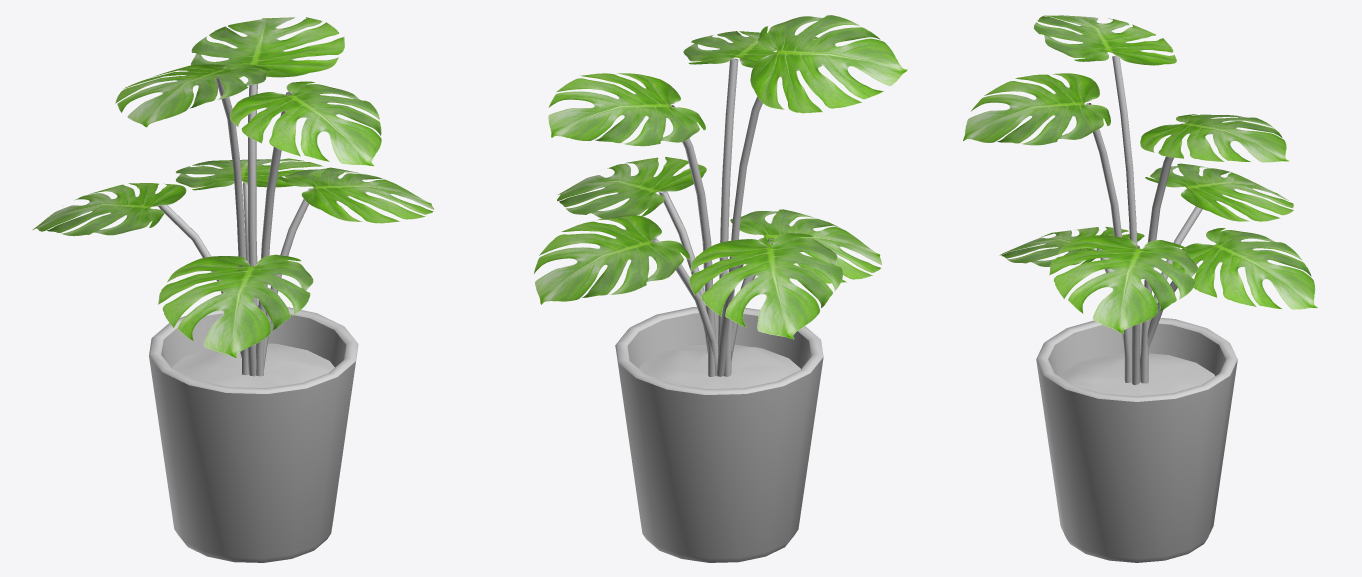
Rendered from reaf1.fbx.
The picture shows the model from 3 angles, left to right: view 1: azimuth 30°, elevation 25°; view 2: azimuth 150°, elevation 25°; view 3: azimuth 270°, elevation 25°; orthographic projection. The views are drawn at different scales.
Parts seen in each view (by area): view 1: reaf1_base, reaf1; view 2: reaf1_base, reaf1; view 3: reaf1_base, reaf1.
Part boxes in pixels (<box>): reaf1_base: <box>149,78,358,562</box>; reaf1: <box>33,17,434,357</box>; reaf1_base: <box>615,58,823,562</box>; reaf1: <box>534,15,907,339</box>; reaf1_base: <box>1036,56,1237,562</box>; reaf1: <box>963,15,1317,333</box>.
Size of the model in its own units: 0.7252 by 0.9397 by 0.7311.
